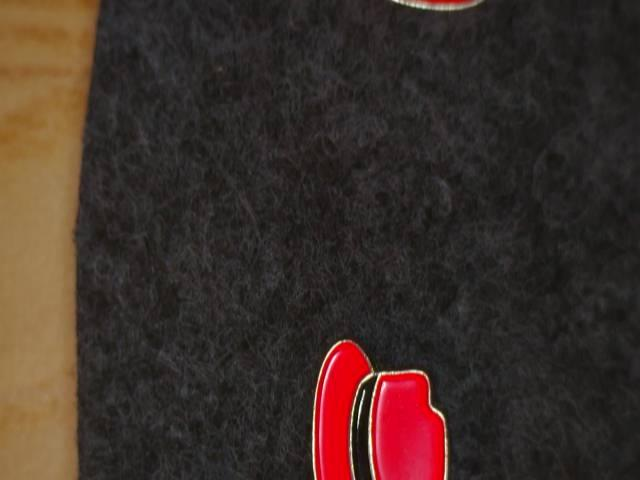Red-Hat: (288, 314, 493, 480)
